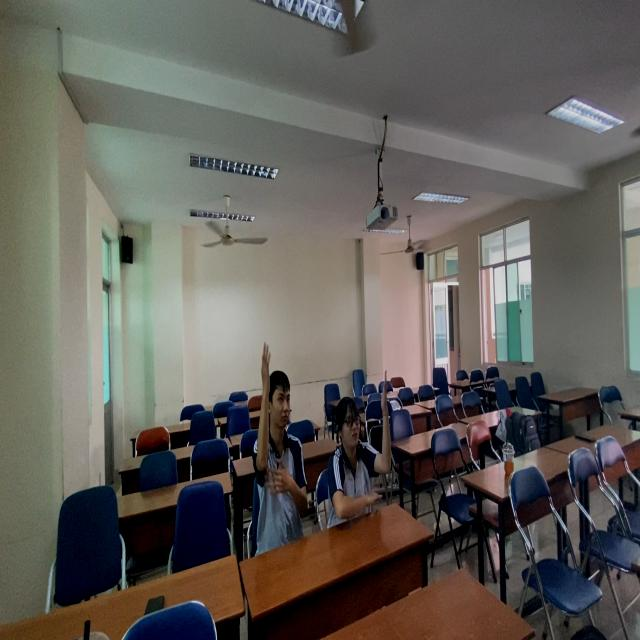raise_hand: (325, 365, 396, 536), (253, 339, 313, 536)
